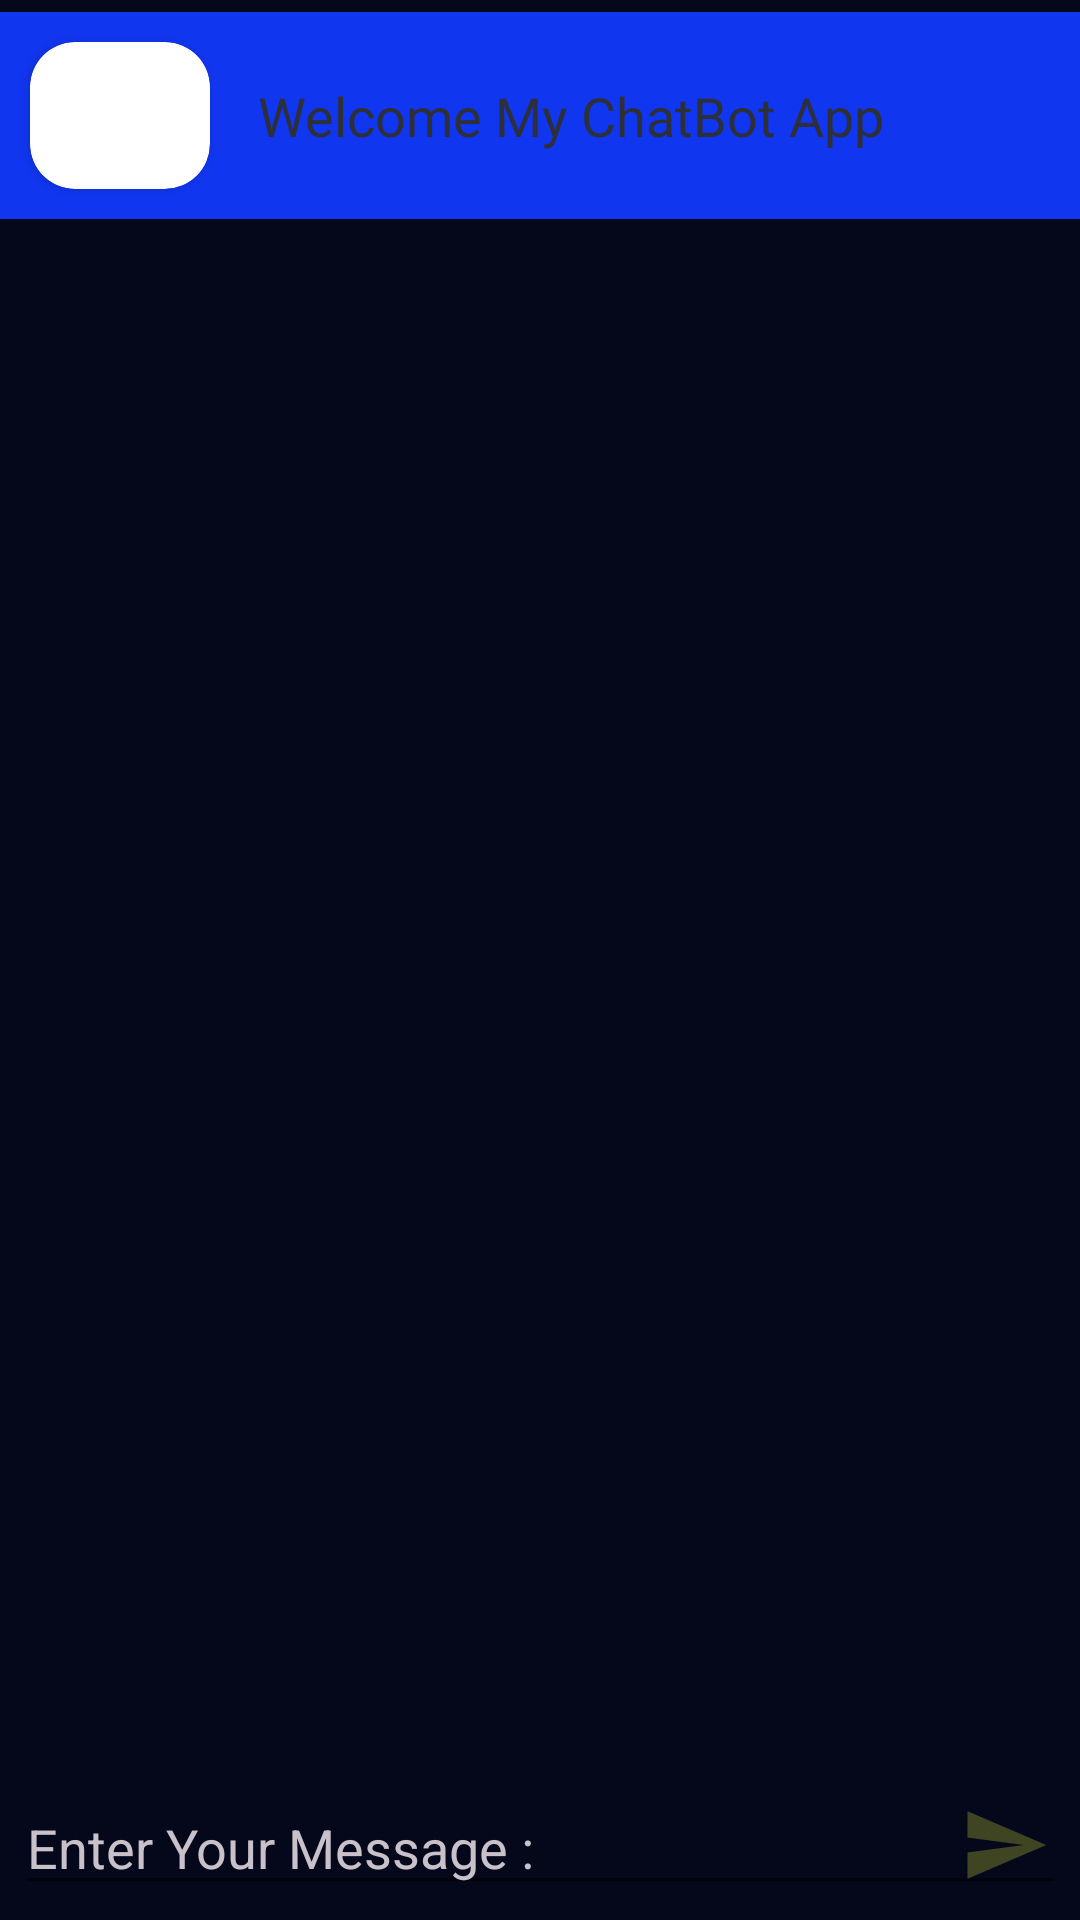

Where to tap for icons on this 1080*1920 app screen, as (x,y):
sent: (1006,1845)
